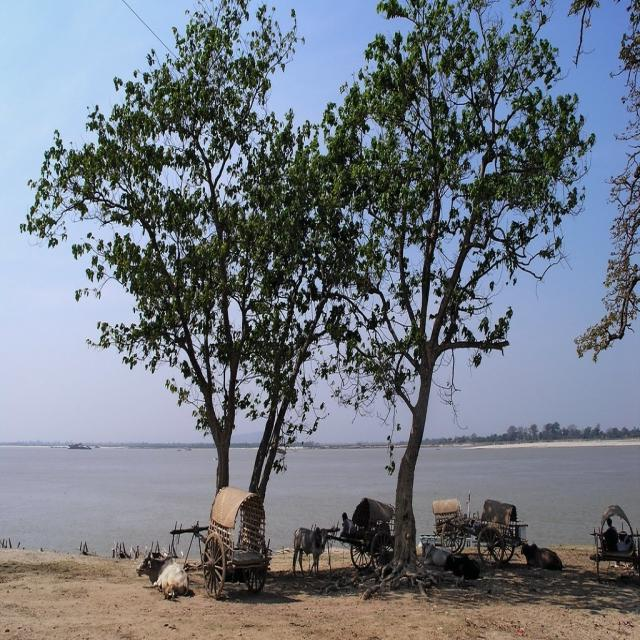boat: (63, 443, 92, 453)
